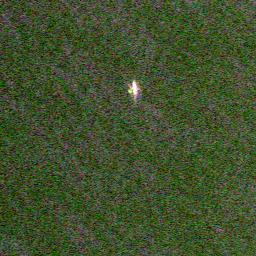Ship: (127, 79, 140, 99)
